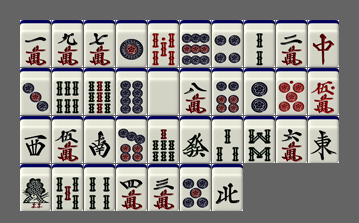0m: (308, 68, 339, 115)
0p: (276, 68, 307, 115)
0s: (148, 20, 179, 67)
1m: (20, 20, 51, 67)
1p: (116, 20, 147, 67)
1s: (20, 164, 51, 211)
1z: (308, 116, 339, 163)
2m: (276, 20, 307, 67)
2p: (244, 68, 275, 115)
2s: (244, 20, 275, 67)
2z: (84, 116, 115, 163)
3m: (148, 164, 179, 211)
3p: (20, 68, 51, 115)
3s: (212, 116, 243, 163)
3z: (20, 116, 51, 163)
4m: (116, 164, 147, 211)
4p: (212, 20, 243, 67)
4s: (84, 164, 115, 211)
4z: (212, 164, 243, 211)
5m: (52, 116, 83, 163)
5p: (180, 164, 211, 211)
5s: (52, 164, 83, 211)
5z: (148, 68, 179, 115)
6m: (276, 116, 307, 163)
6p: (212, 68, 243, 115)
6s: (52, 68, 83, 115)
6z: (180, 116, 211, 163)
7m: (84, 20, 115, 67)
7p: (116, 116, 147, 163)
7s: (148, 116, 179, 163)
7z: (308, 20, 339, 67)
8m: (180, 68, 211, 115)
8p: (116, 68, 147, 115)
8s: (244, 116, 275, 163)
9m: (52, 20, 83, 67)
9p: (180, 20, 211, 67)
9s: (84, 68, 115, 115)
